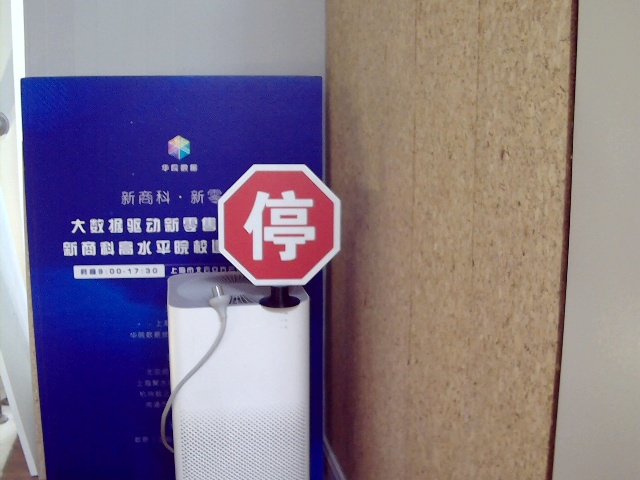stop: (243, 189, 318, 260)
